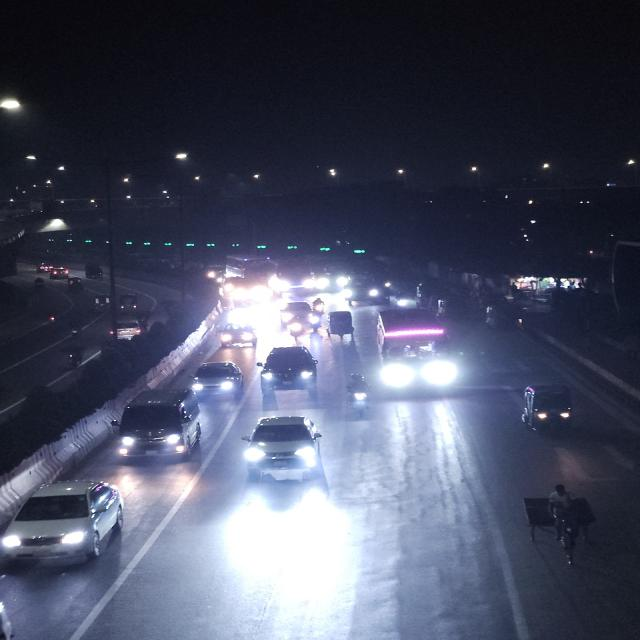bus: (374, 306, 463, 401), (233, 256, 295, 287), (306, 255, 350, 293)
car: (0, 476, 126, 577), (106, 384, 206, 468), (238, 413, 334, 484), (258, 343, 322, 402), (190, 359, 248, 403), (217, 318, 260, 352)
cng: (519, 378, 584, 444), (324, 308, 359, 344)
motorcycle: (344, 370, 373, 426), (286, 313, 306, 341)
rickshaw: (518, 482, 601, 573)
